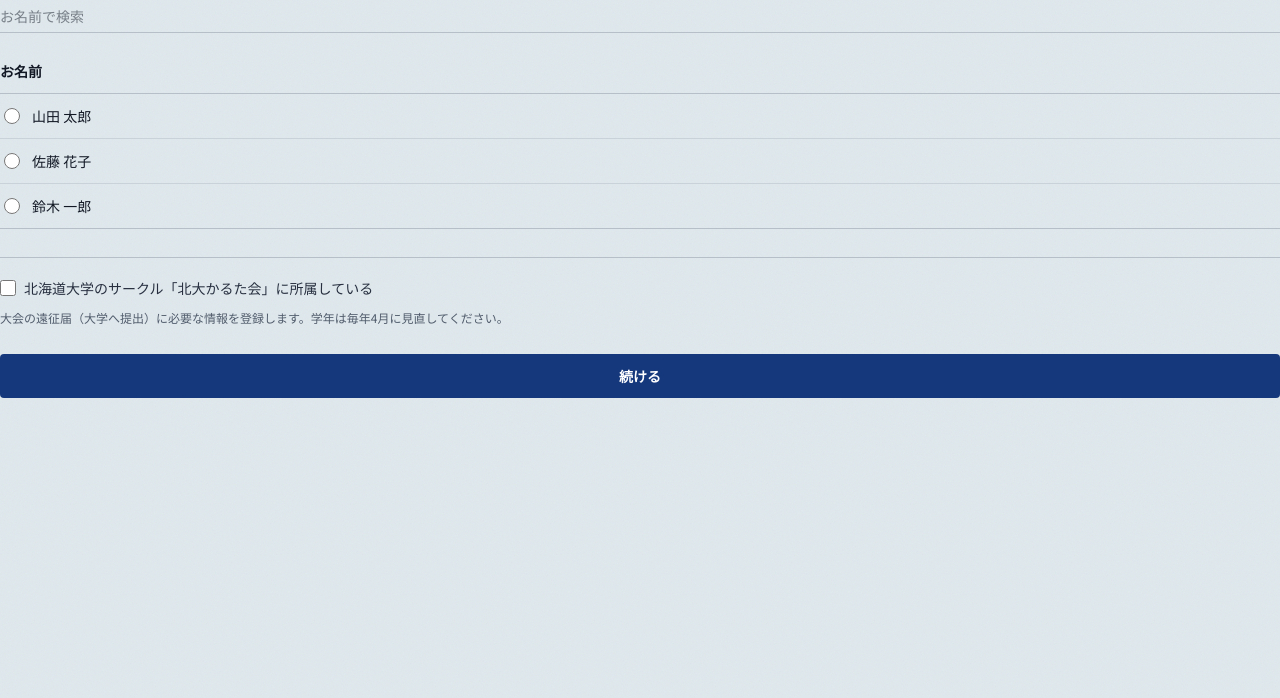
Scenario: RosterClaimForm › needsPhone の候補を選び ON にすると電話番号欄が出て生年月日欄は出ない
This screenshot has width=1280, height=698.
Click the radio button labelled "山田 太郎".
click(12, 116)  # box 4,108 -> 20,124
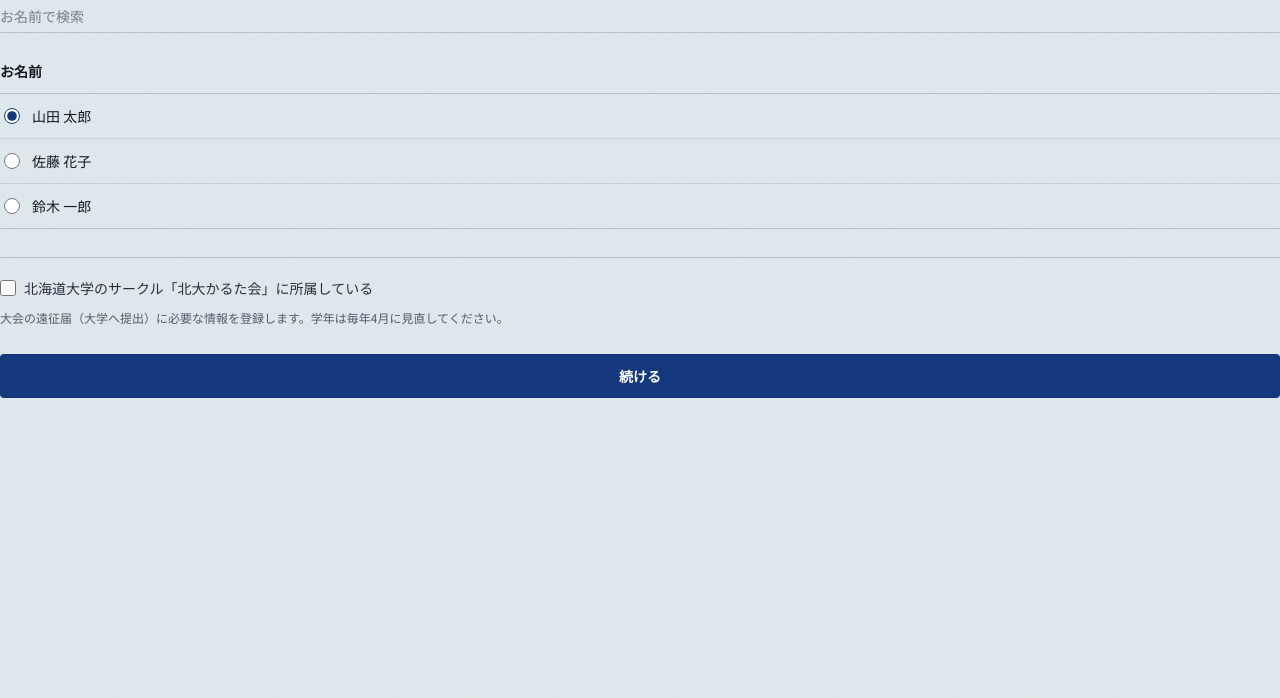
Click the checkbox labelled "北海道大学のサークル「北大かるた会」に所属している".
click(8, 288)  # box 0,280 -> 16,296
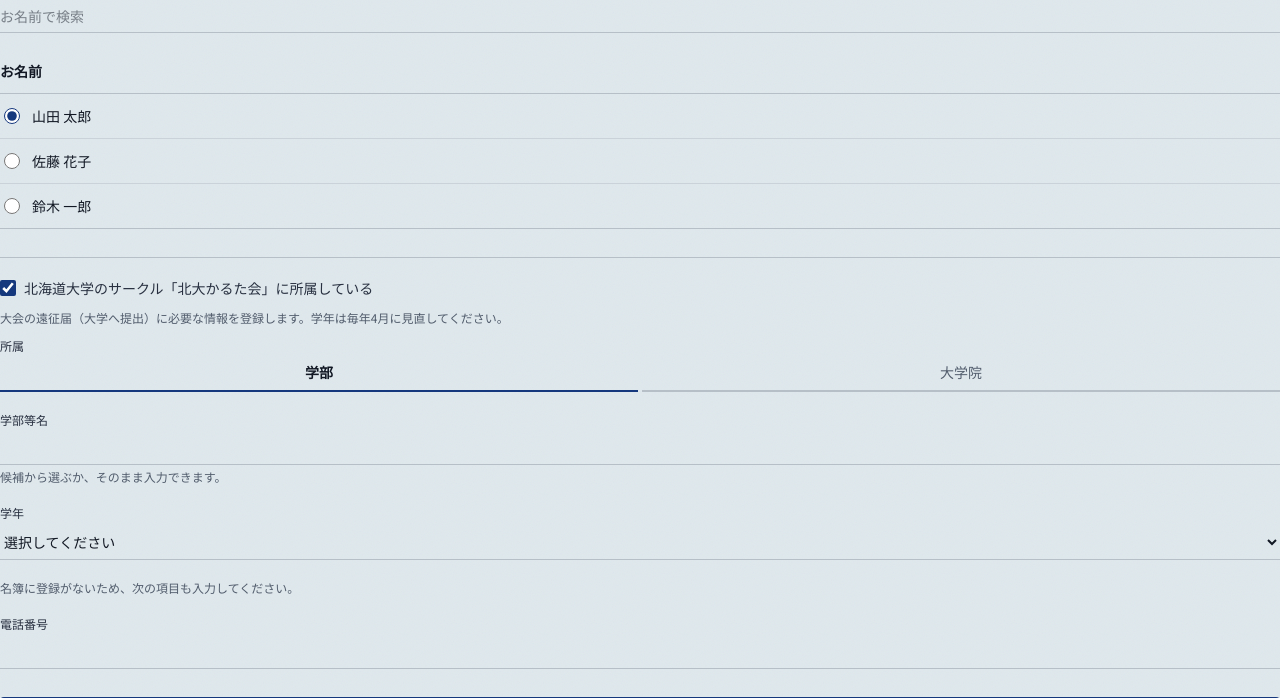
Expected: the field labelled "電話番号" is shown, 0,636 -> 1279,669
